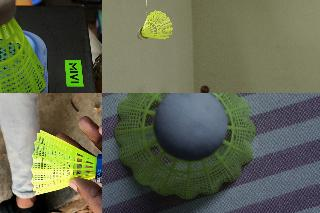shuttlecock: (113, 93, 255, 199), (29, 128, 101, 196), (0, 0, 46, 92), (136, 10, 172, 40)
